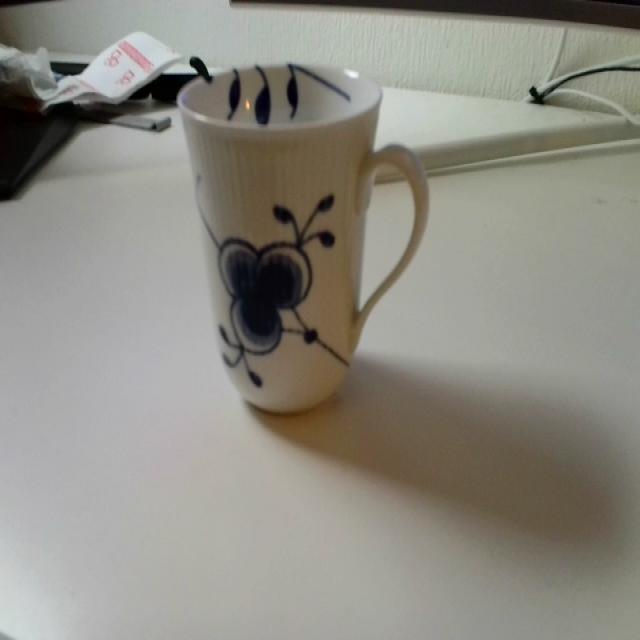Hand painted cup: (172, 53, 436, 417)
